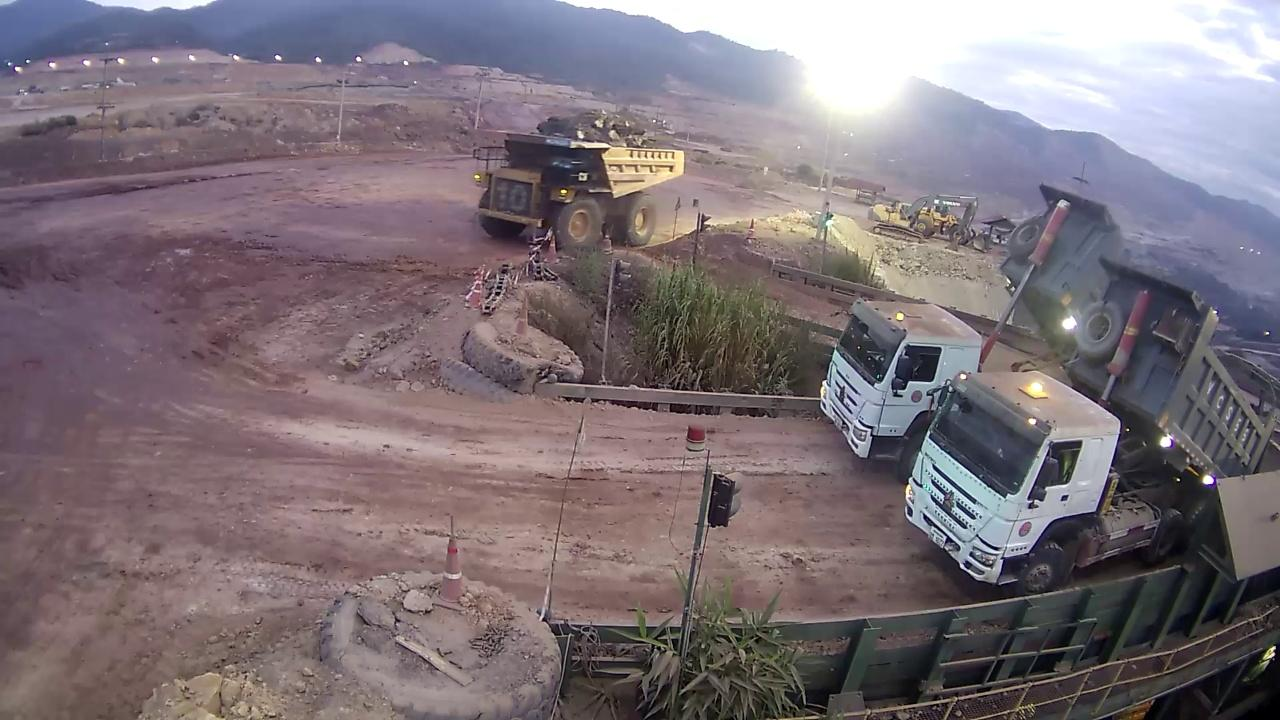front_number: (494, 179, 532, 218)
full_load: (536, 107, 676, 144)
mining_truck: (470, 97, 685, 251)
